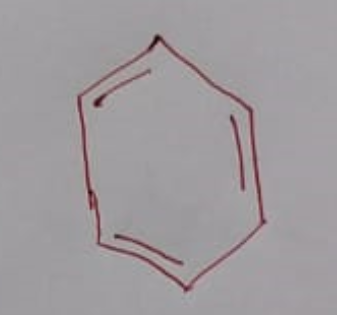shape_mask: (65, 26, 281, 302)
